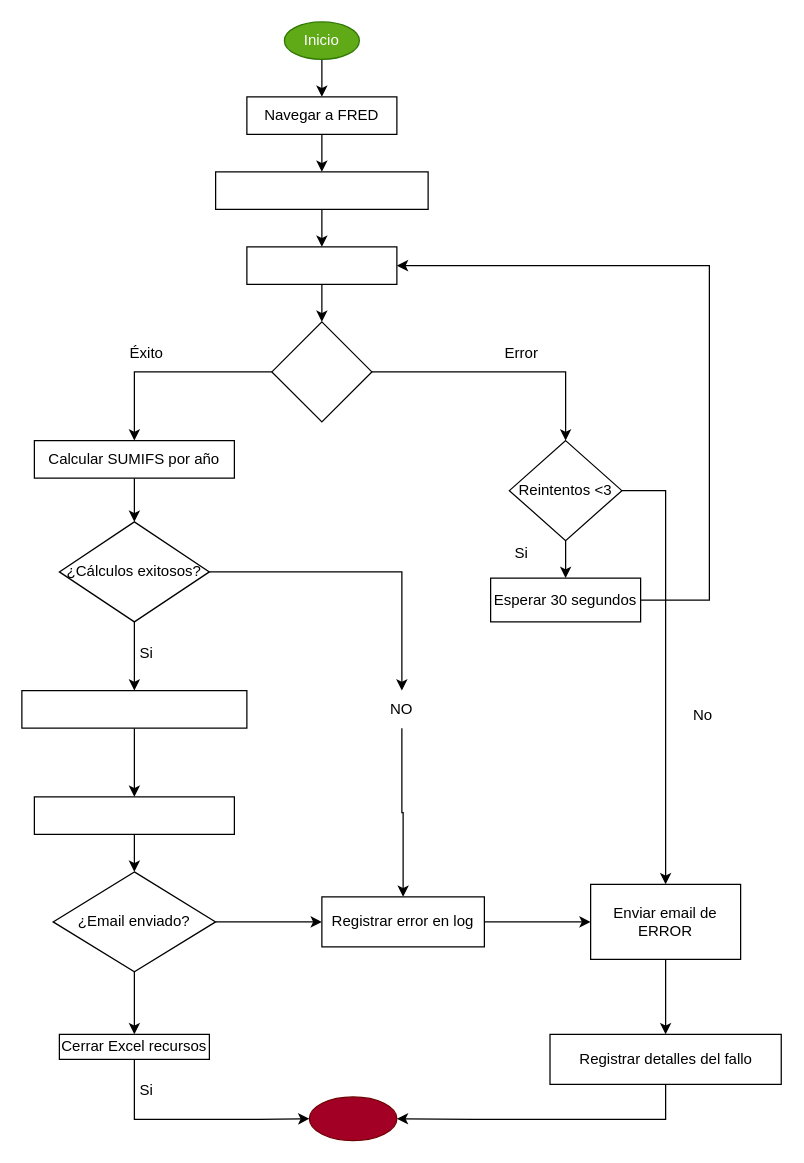
Some shapes in this 804 by 1163 pixel diagram are drawn without their labels. Each missing label, with the centre of its shape:
Abrir Excel ?: (x=321, y=371)
Configurar rango de fechas: (x=321, y=190)
Descargar Excel: (x=321, y=265)
Enviar email con reporte: (x=133, y=815)
Fin: (x=352, y=1118)
Generar tabla de resumen: (x=134, y=708)
